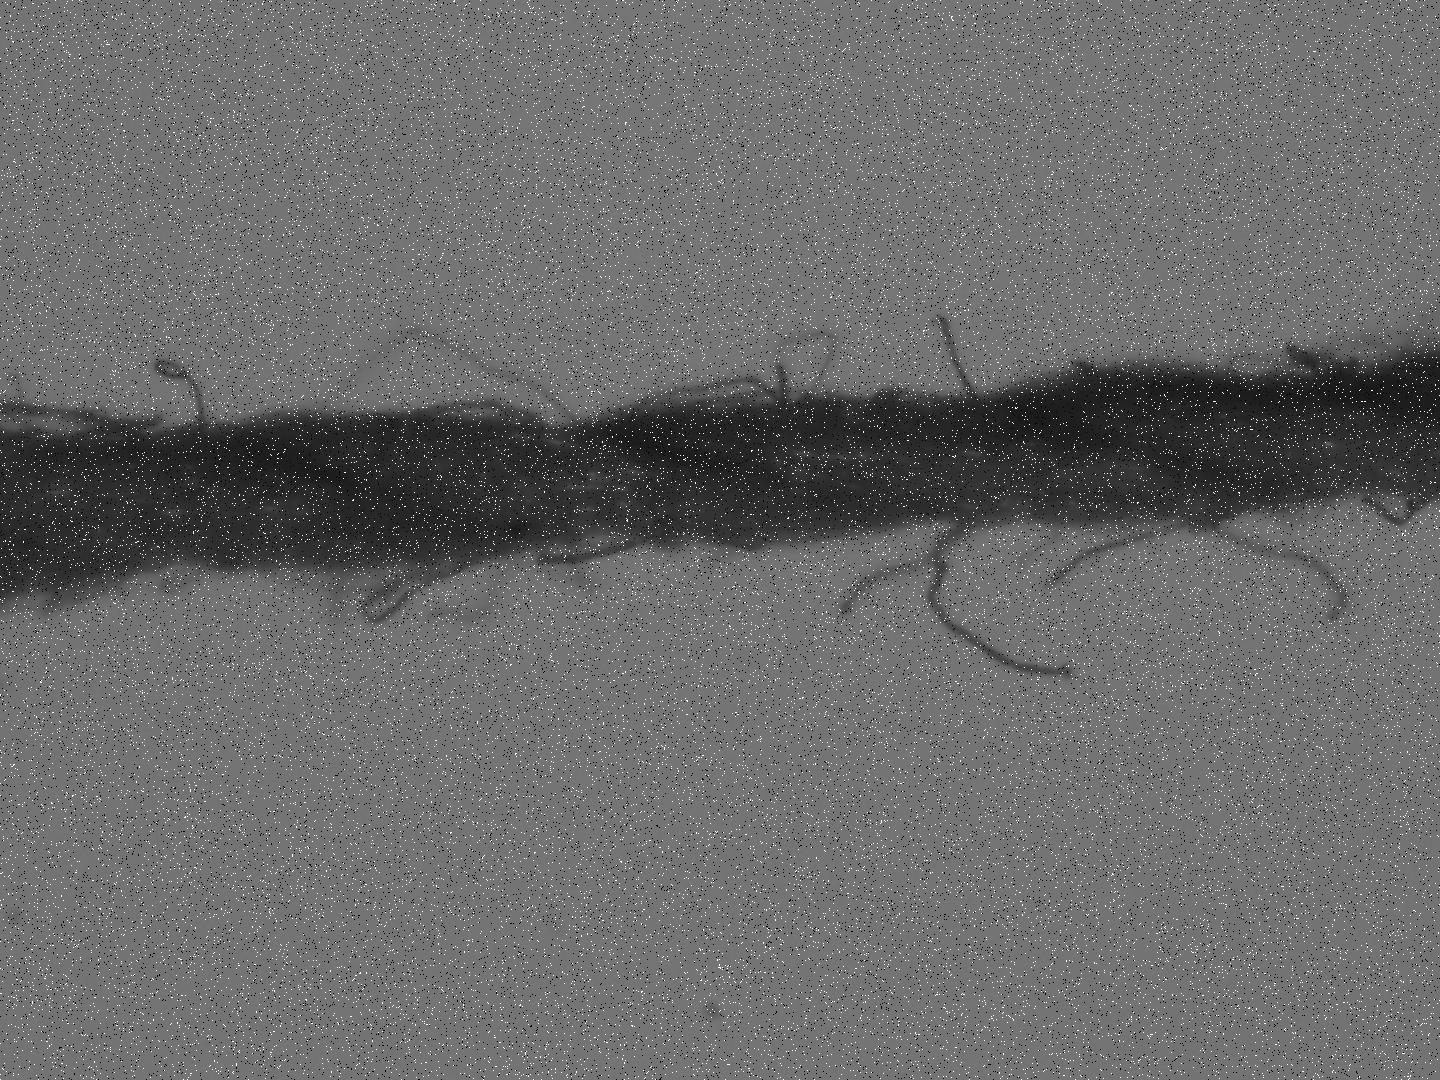loop_fiber: (317, 319, 586, 427), (240, 555, 497, 627), (1218, 303, 1440, 383), (3, 558, 210, 615), (2, 395, 150, 457), (620, 373, 773, 422), (771, 327, 840, 404), (405, 394, 543, 430)
protruding_fiber: (926, 520, 1079, 678), (1209, 508, 1348, 630), (424, 539, 598, 627), (1043, 514, 1214, 593), (838, 516, 974, 616), (933, 303, 981, 403), (537, 534, 662, 563), (152, 360, 204, 421), (1015, 520, 1060, 573), (1362, 497, 1434, 526)
